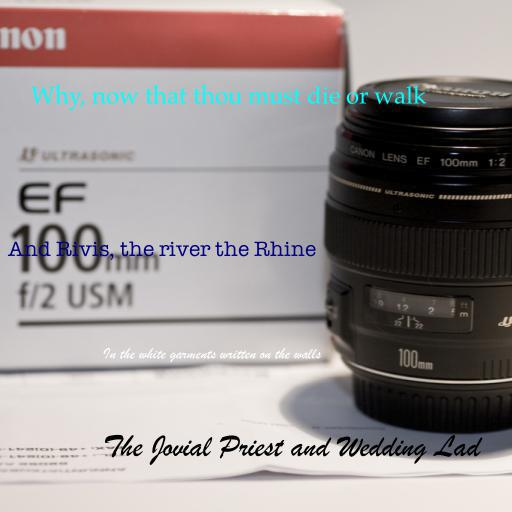American Typewriter: (8, 241, 316, 260)
Brush Script MT: (102, 434, 480, 465), (103, 347, 321, 363)
Palatino: (30, 84, 426, 111)
